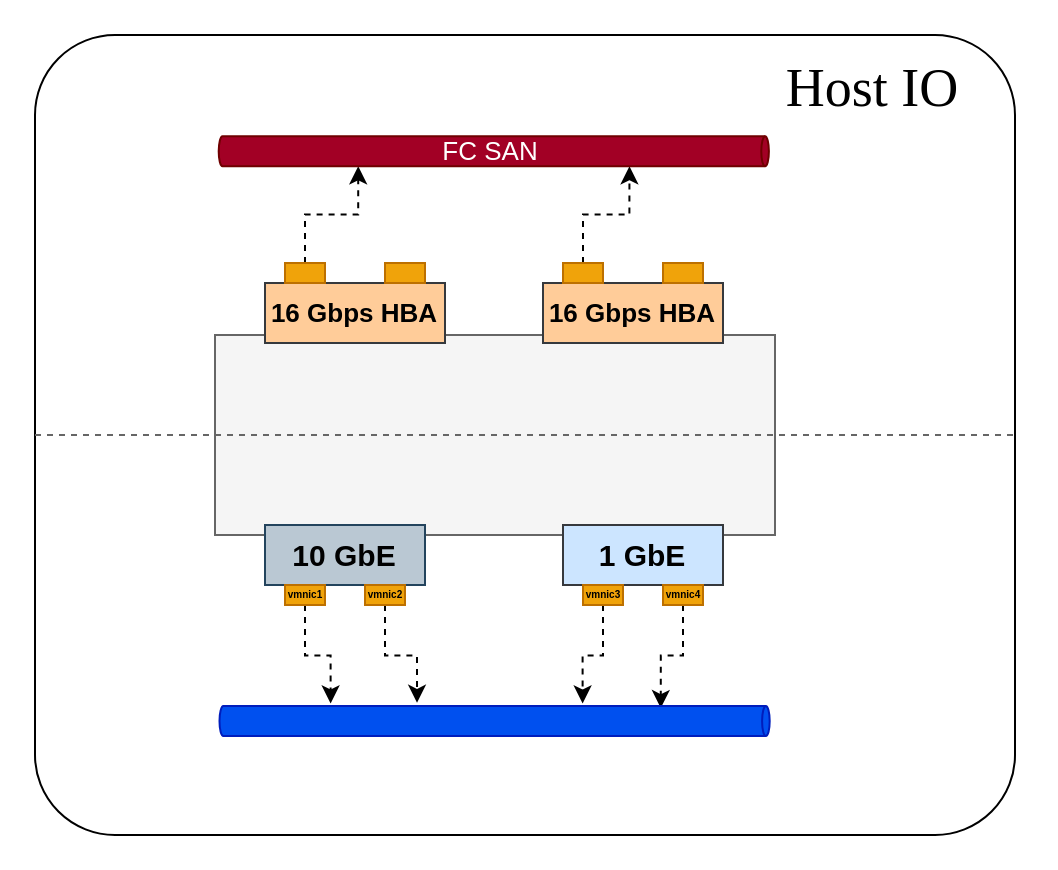
Image size: 1058x870. Some labels were removed from this diagram. Here are the shapes that lost their labels. From the top down, the centre of each, then its label:
At [494,434]: "Dell R740 ESXi".
At [494,720]: "LAN".
